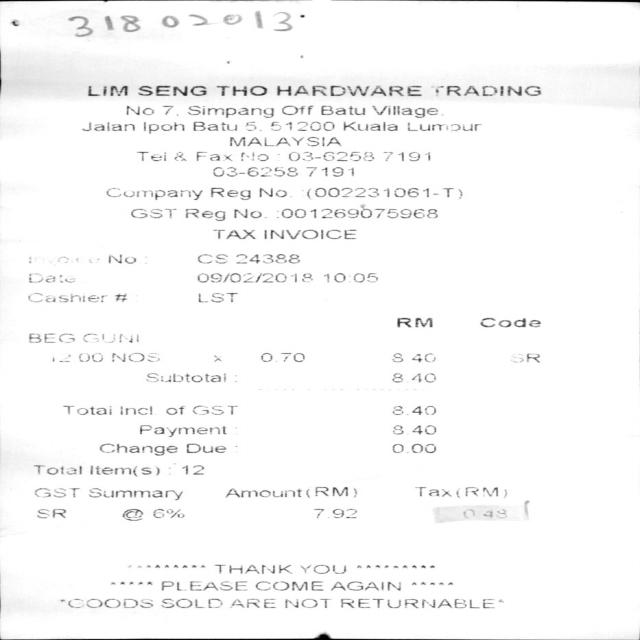text: (276, 204, 436, 218), (306, 187, 461, 198), (340, 598, 502, 608), (276, 85, 420, 96), (105, 187, 202, 200), (88, 487, 181, 500), (434, 85, 540, 96), (196, 272, 312, 282), (138, 424, 225, 437), (228, 136, 340, 146), (187, 105, 272, 118), (414, 486, 506, 498), (58, 598, 152, 608), (98, 443, 176, 455), (264, 229, 356, 239), (228, 487, 309, 498), (211, 166, 297, 176), (288, 150, 373, 160), (160, 580, 245, 590), (26, 292, 106, 302), (144, 372, 224, 382), (371, 105, 437, 117), (213, 564, 291, 574), (136, 85, 206, 96), (89, 465, 159, 476), (26, 254, 100, 264), (330, 580, 399, 590), (254, 580, 322, 590), (270, 120, 334, 130), (236, 253, 298, 263), (159, 598, 221, 608), (479, 316, 540, 326), (407, 122, 480, 130), (322, 272, 377, 282), (83, 332, 137, 342), (343, 121, 396, 131), (210, 187, 249, 200), (184, 208, 223, 221), (216, 85, 266, 95), (52, 352, 102, 362), (61, 404, 110, 414), (305, 166, 353, 176), (111, 352, 159, 362), (32, 464, 80, 474), (129, 208, 175, 218), (28, 272, 74, 282), (28, 332, 74, 342), (299, 564, 345, 574), (86, 85, 127, 96), (142, 122, 183, 133), (389, 353, 434, 363), (191, 404, 236, 414), (284, 598, 329, 608), (320, 104, 364, 114), (192, 121, 236, 131), (259, 352, 303, 362), (390, 372, 434, 382), (391, 424, 435, 434), (391, 442, 435, 452), (230, 598, 274, 608), (81, 122, 134, 130), (212, 229, 254, 239), (313, 508, 355, 518), (318, 486, 356, 497), (185, 442, 225, 452), (34, 488, 78, 497), (198, 292, 236, 302), (382, 152, 428, 160), (195, 150, 231, 160), (391, 406, 435, 414), (396, 317, 431, 327), (462, 509, 504, 517), (240, 152, 279, 160), (281, 104, 312, 114), (234, 208, 265, 218), (152, 508, 183, 518), (135, 150, 165, 160), (196, 254, 226, 264), (35, 508, 64, 518), (180, 463, 204, 475), (107, 254, 135, 264), (258, 187, 285, 197), (126, 104, 152, 114), (512, 352, 538, 362), (119, 406, 151, 414), (121, 508, 142, 520), (244, 121, 260, 131), (162, 105, 177, 115), (165, 406, 183, 414), (173, 152, 185, 160), (114, 293, 125, 301), (213, 355, 220, 361)
